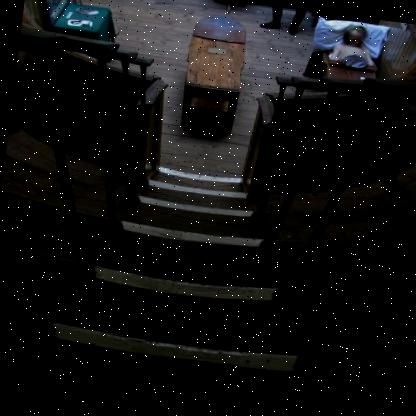stair: (74, 141, 322, 416)
